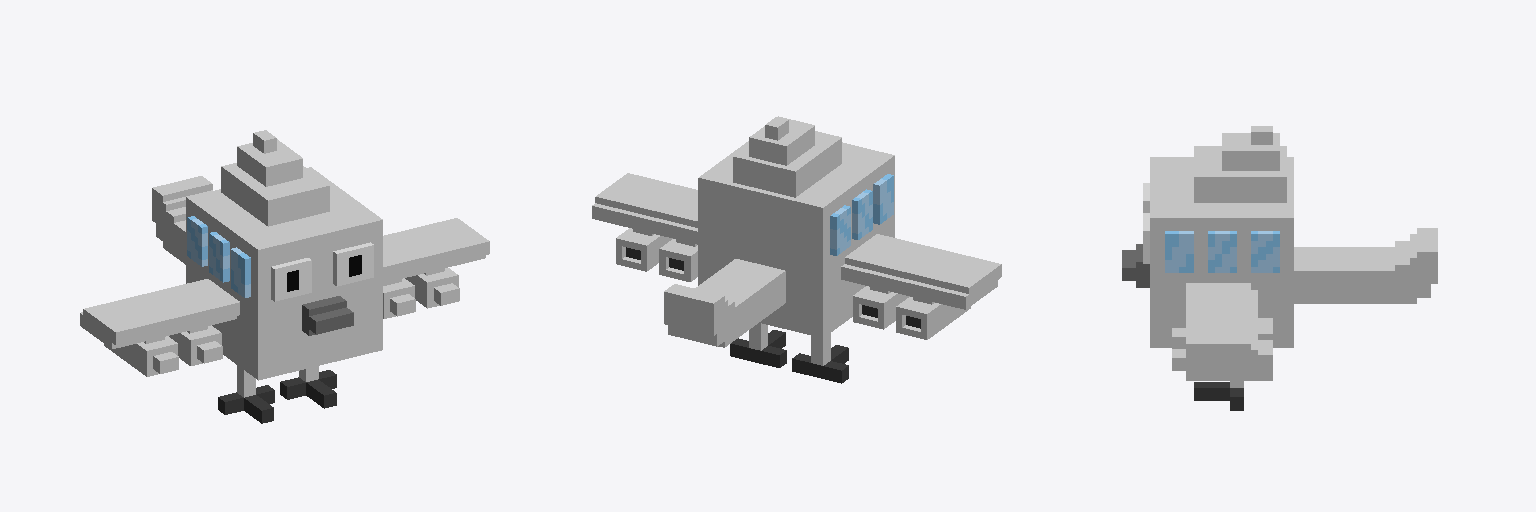
3 renders of one model, left to right at view 1: azimuth 30°, elevation 25°; view 2: azimuth 150°, elevation 25°; view 3: azimuth 270°, elevation 25°, orthographic.
Bounding box in the file's own units: 60 × 39 × 44.
1 materials, 1 textured.